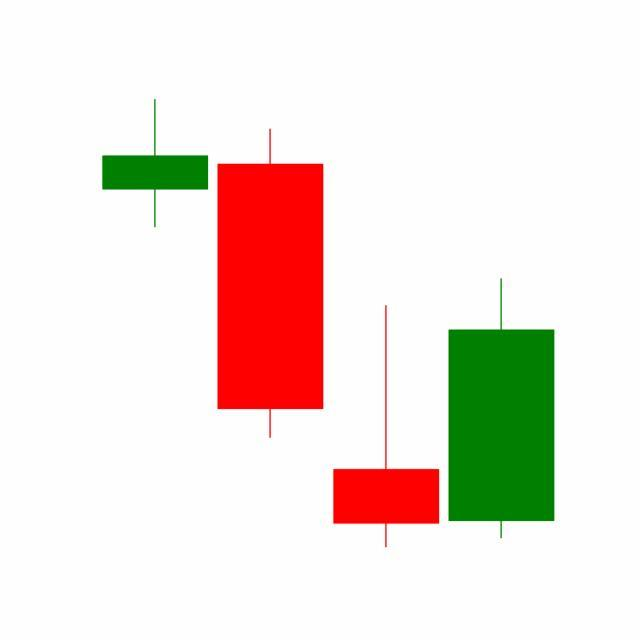Morning Star: (211, 124, 555, 548)
